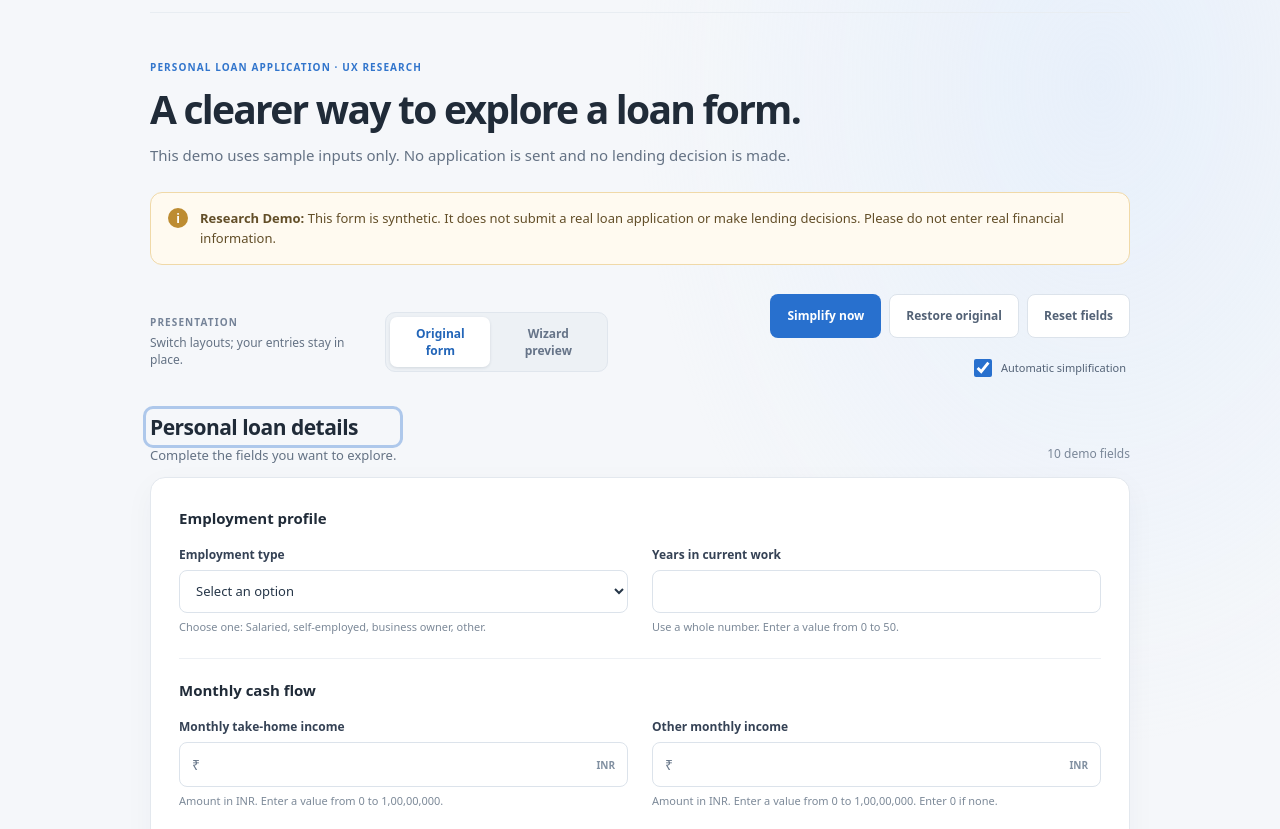
Test: synthetic personal loan form › renders the fallback plan with all ten fields exactly once and preserves values
The image size is (1280, 829).
In the number field labelled "Monthly take-home income": {"x": 398, "y": 765} top-left (200, 744), bottom-right (596, 786), type "60000"
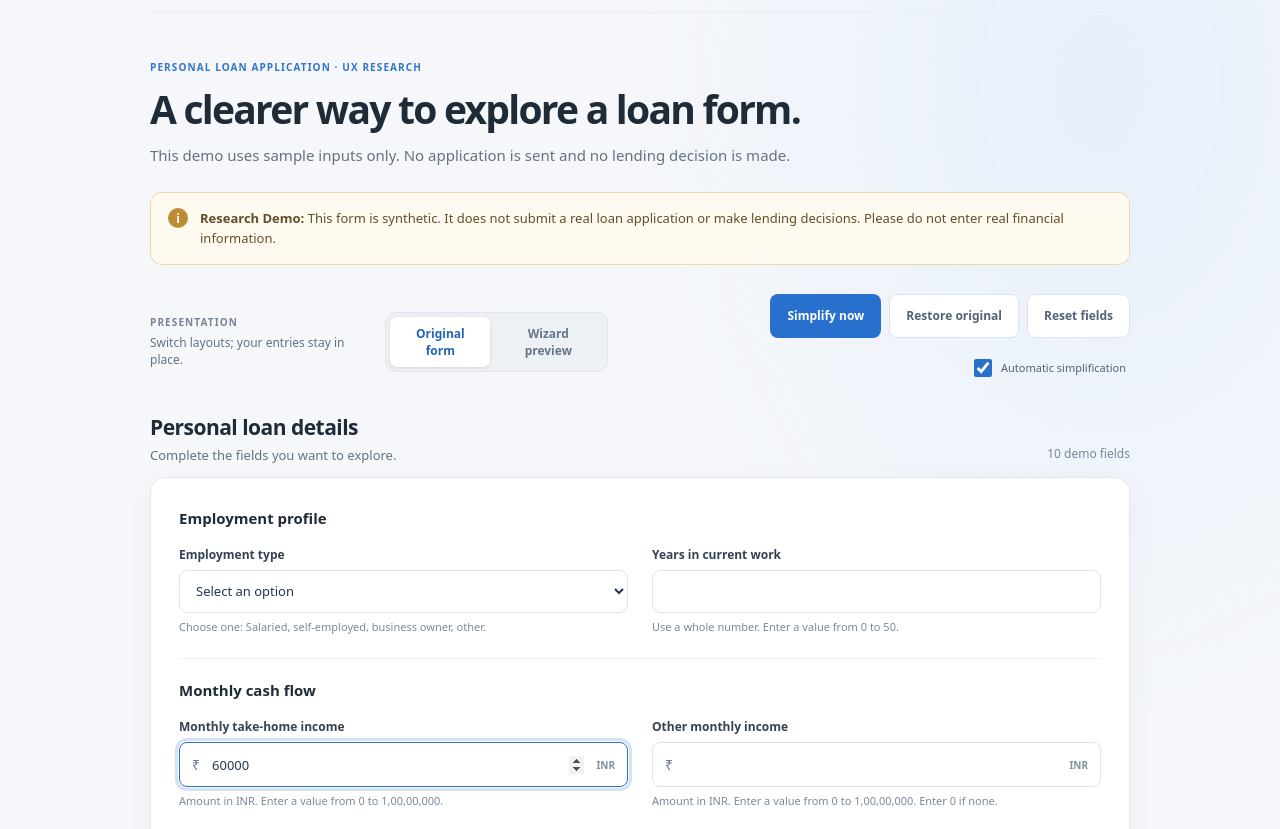
Click the button "Wizard preview": {"x": 548, "y": 342} top-left (493, 316), bottom-right (603, 366)
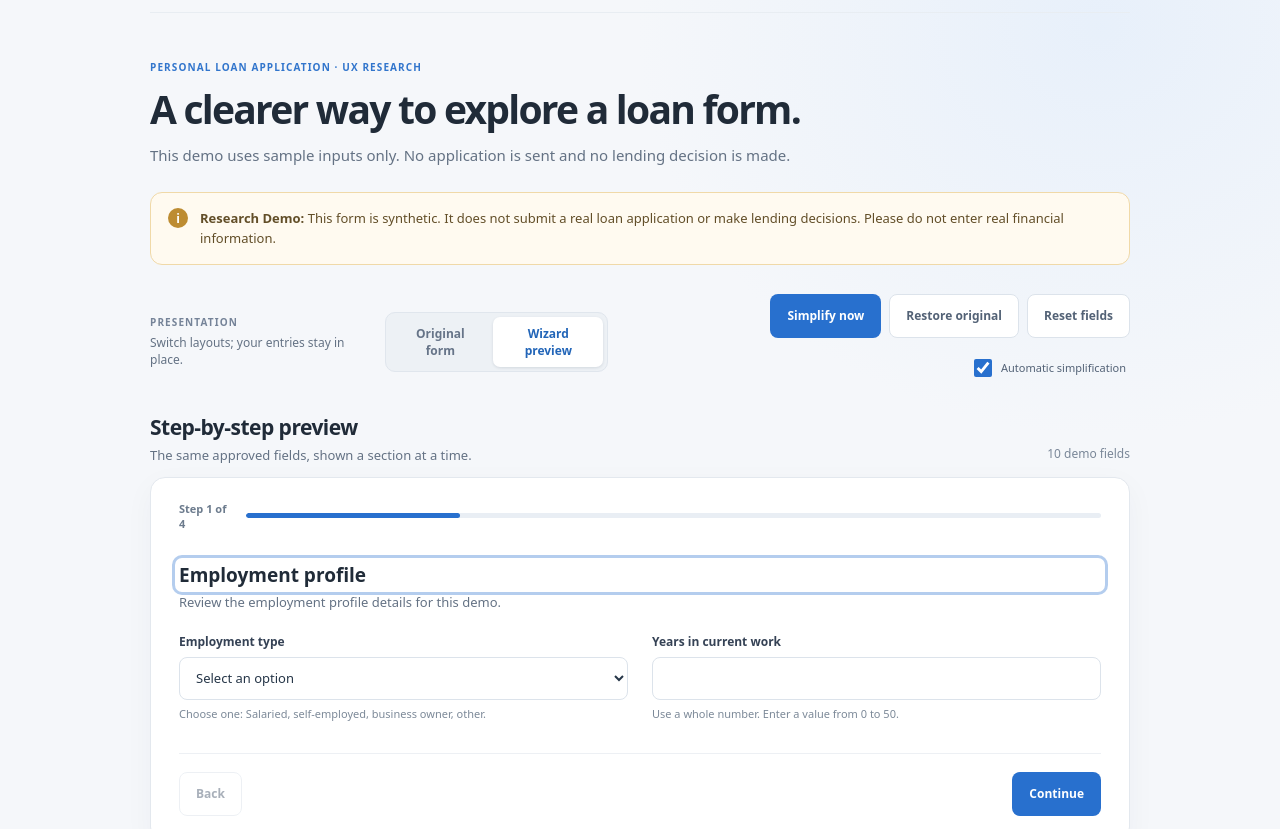
Click the button "Continue": {"x": 1057, "y": 794} top-left (1012, 772), bottom-right (1101, 816)
(page scrolled)
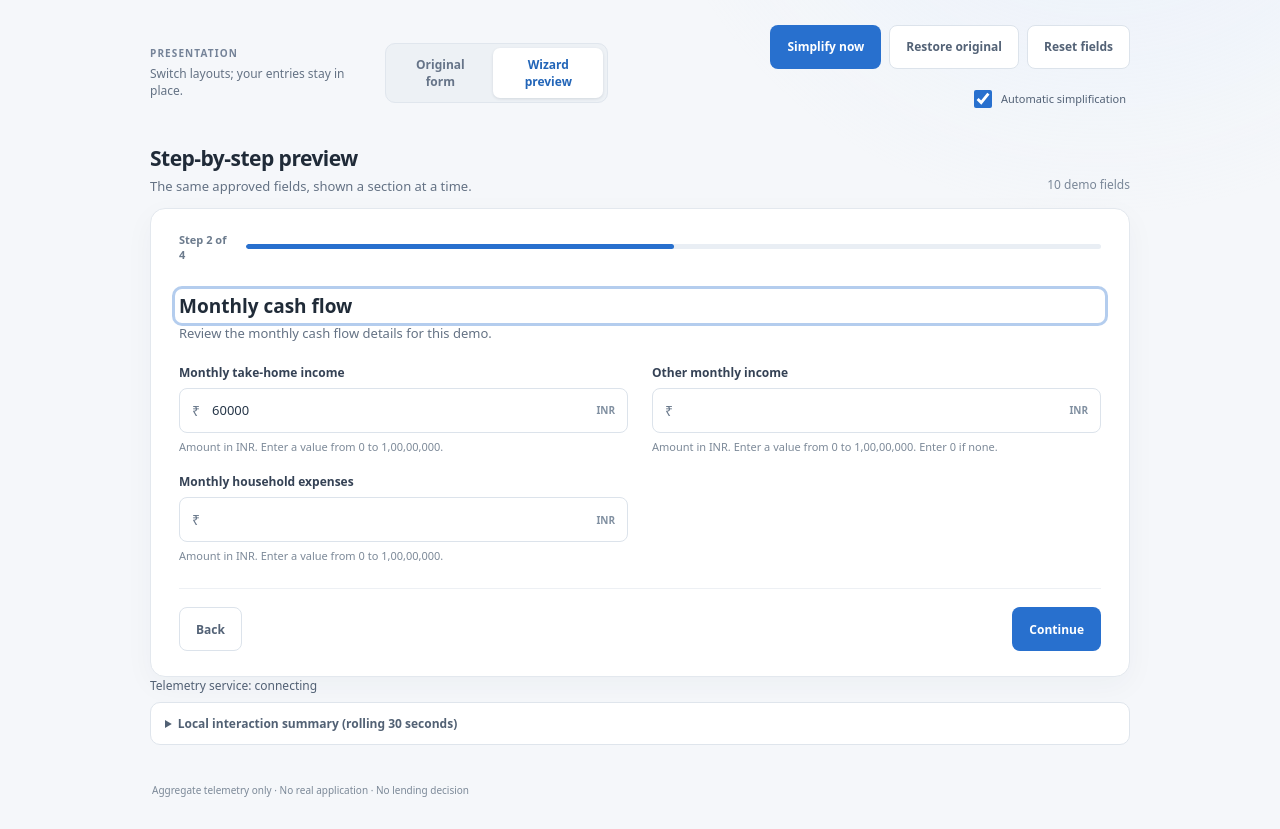
Expected: the number field labelled "Monthly take-home income" holds "60000", top-left (200, 388), bottom-right (596, 432)
Click the button "Continue": {"x": 1057, "y": 629} top-left (1012, 607), bottom-right (1101, 651)
(page scrolled)
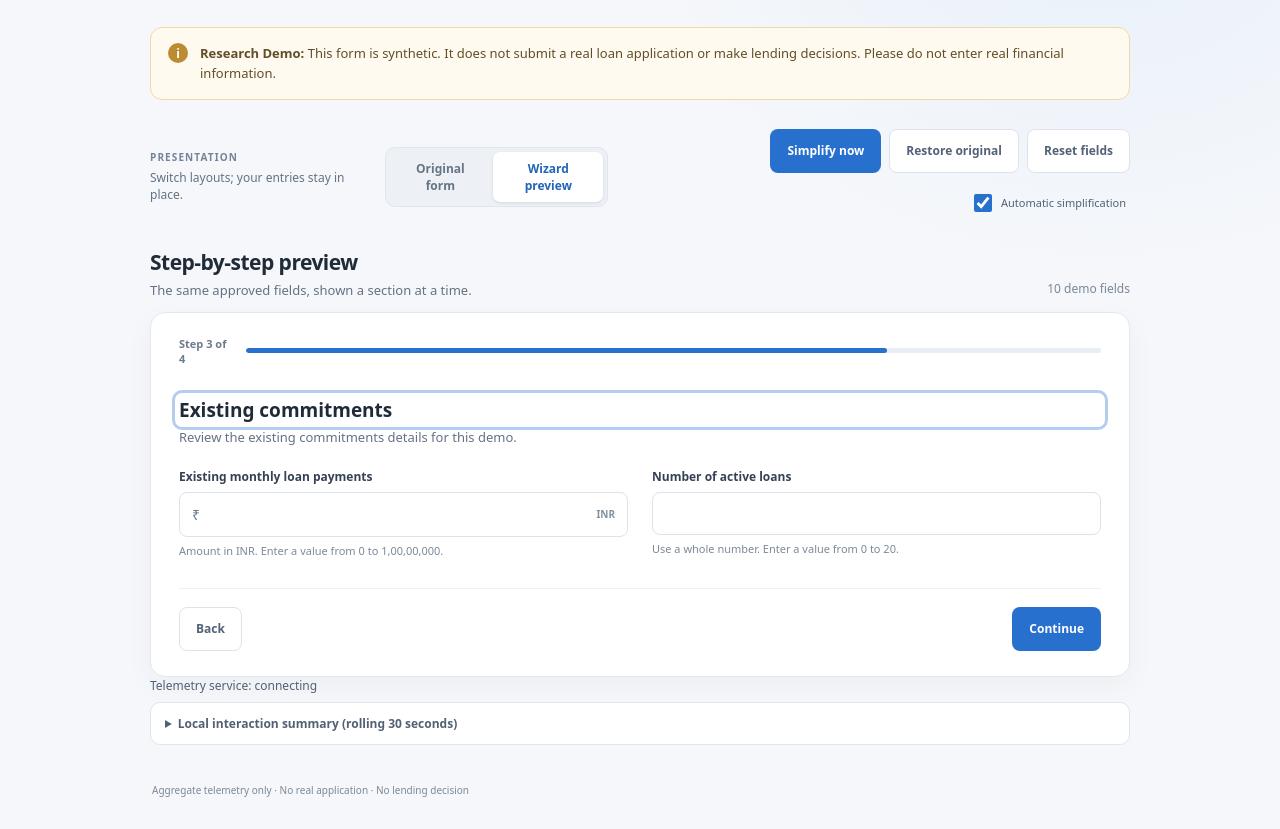
Click the button "Continue": {"x": 1057, "y": 628} top-left (1012, 606), bottom-right (1101, 650)
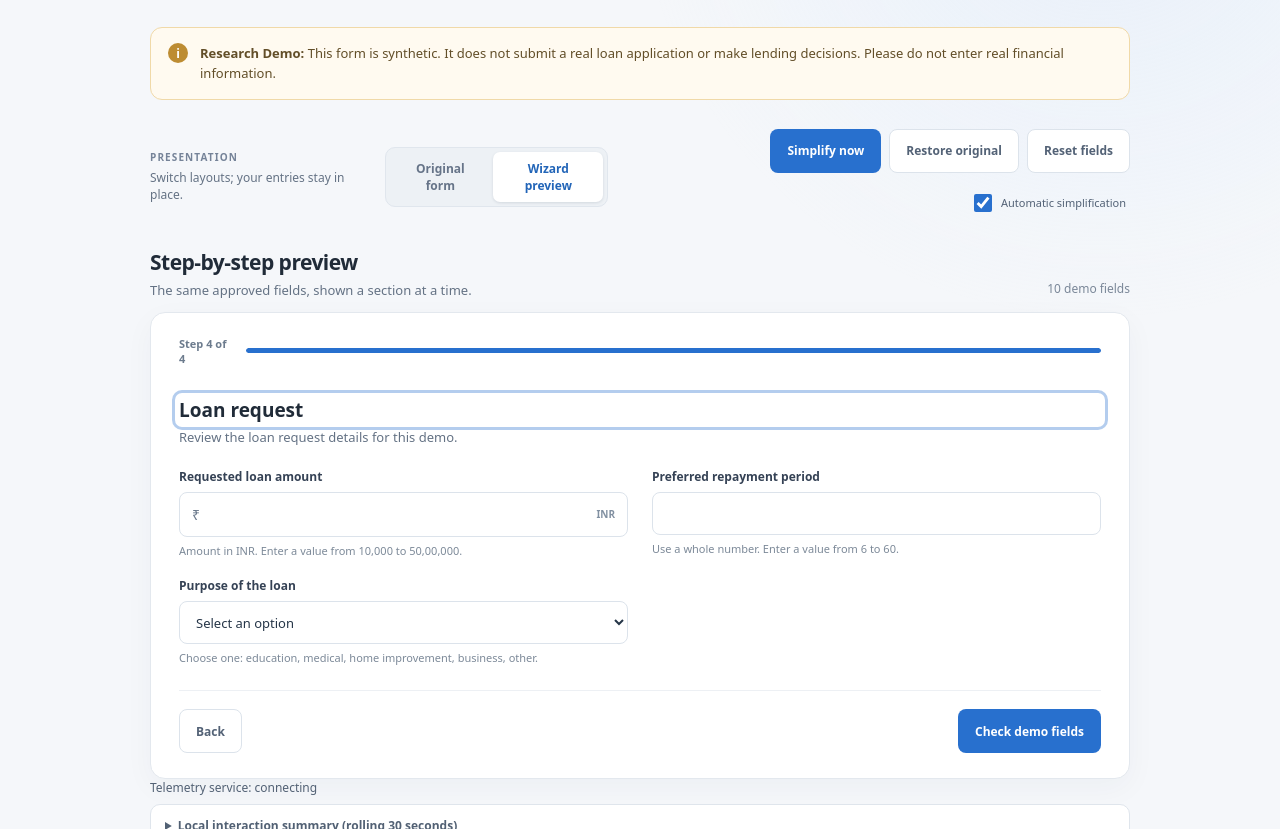
Click the button "Original form": {"x": 440, "y": 176} top-left (390, 152), bottom-right (490, 202)
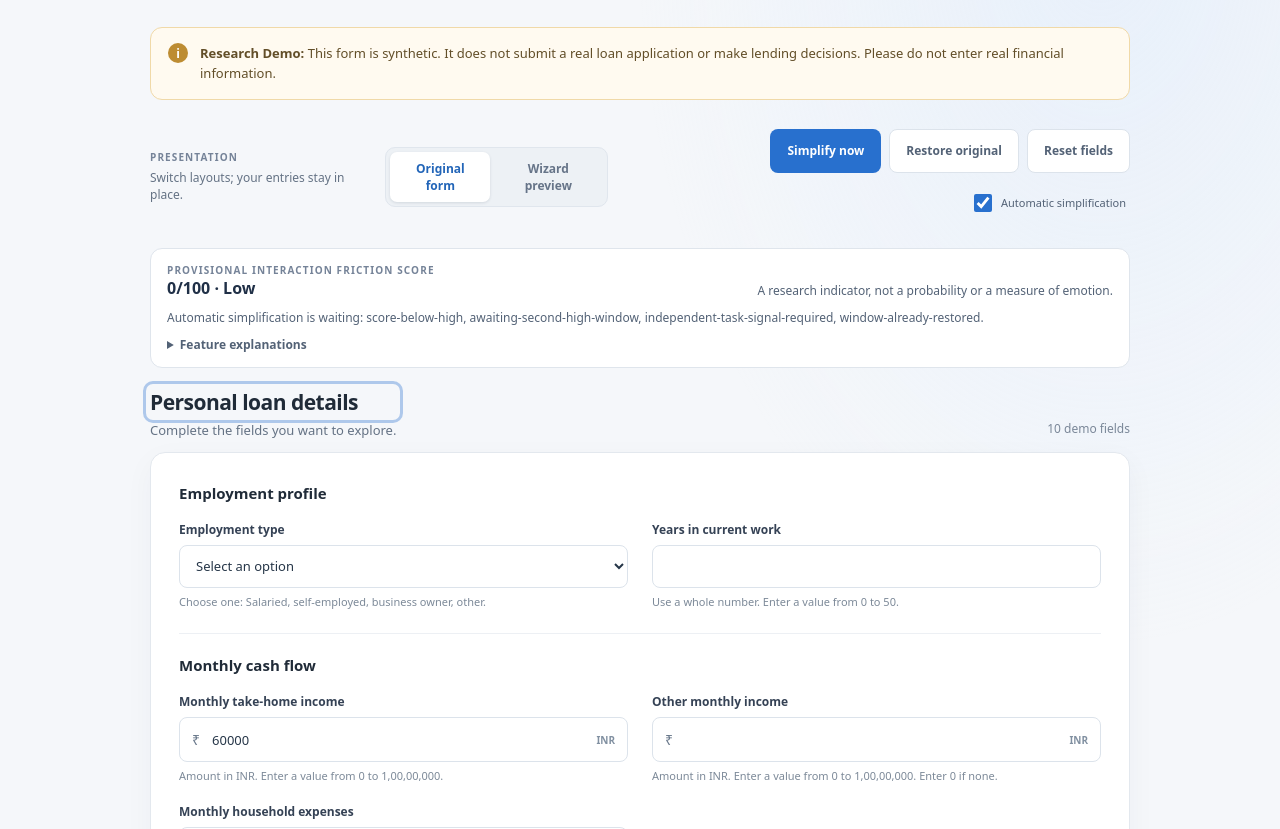
Expected: the number field labelled "Monthly take-home income" holds "60000", top-left (200, 718), bottom-right (596, 762)
